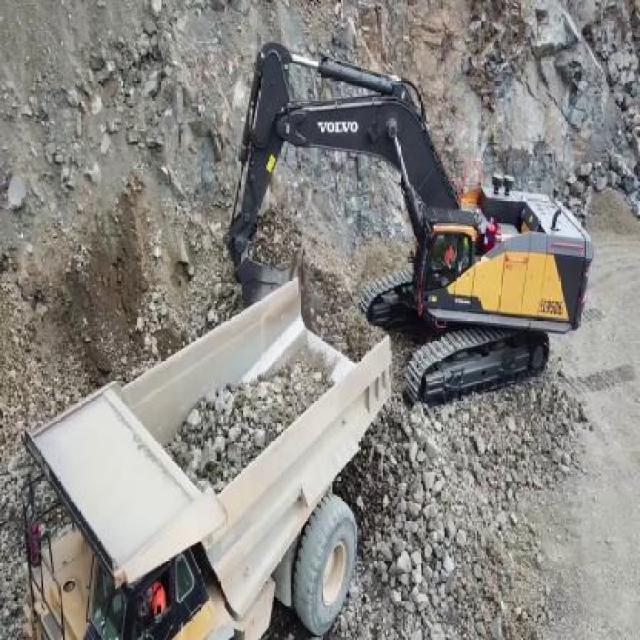dump_truck: (17, 272, 392, 638)
excavator: (222, 38, 595, 410)
